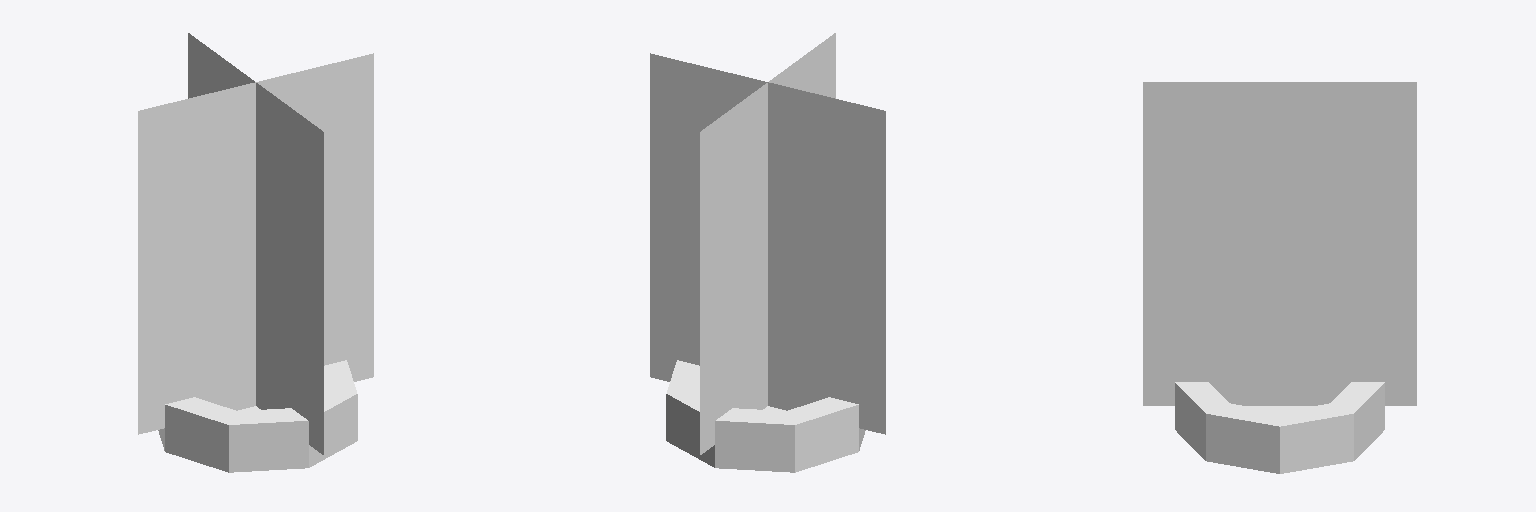
File: tree-park-large.obj
The picture shows the model from 3 angles: view 1: azimuth 30°, elevation 25°; view 2: azimuth 150°, elevation 25°; view 3: azimuth 270°, elevation 25°; orthographic projection.
Visible parts, largest first — view 1: tree-park-large; view 2: tree-park-large; view 3: tree-park-large.
Part boxes in pixels (left/top/right/bottom): tree-park-large: left=138, top=33, right=373, bottom=472; tree-park-large: left=650, top=33, right=885, bottom=472; tree-park-large: left=1143, top=82, right=1416, bottom=473.
Bounding box in the file's own units: 1.04 × 1.46 × 1.04.